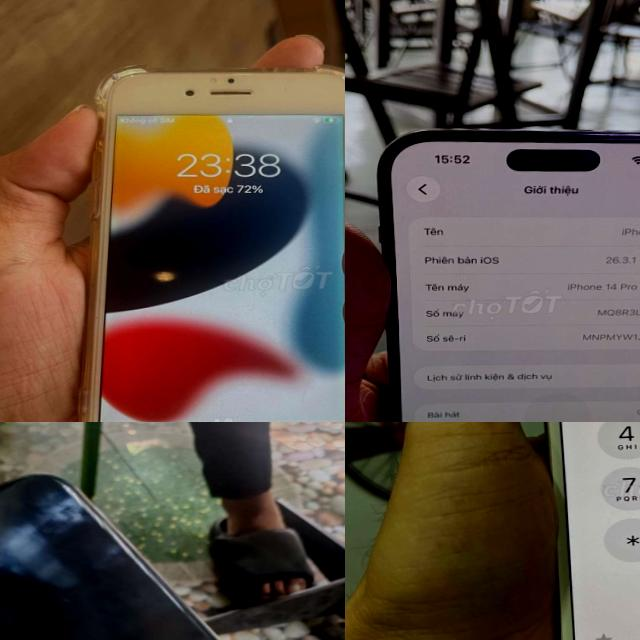gen_11: (0, 461, 345, 640)
gen_14: (370, 121, 640, 422)
gen_6: (93, 61, 345, 422)
gen_7_8: (526, 422, 640, 640)
